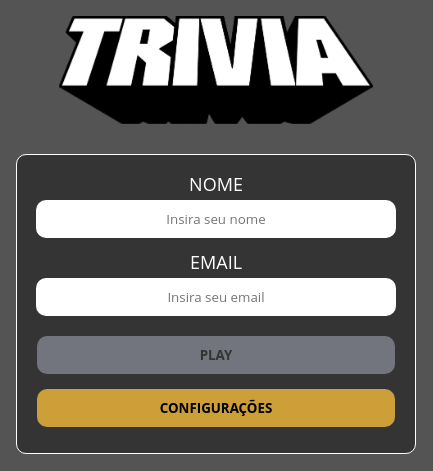
Test: Testando o componente Login › Verificando se o botão está habilitado quando é passado dados válidos.
Expected: the field labelled "EMAIL" is shown, [36,278,396,316]
Expected: the button "Play" is disabled, [37,336,395,374]
Type "aaaa" into the field labelled "NOME".
click(216, 219); type("aaaa")  # box [36,200,396,238]
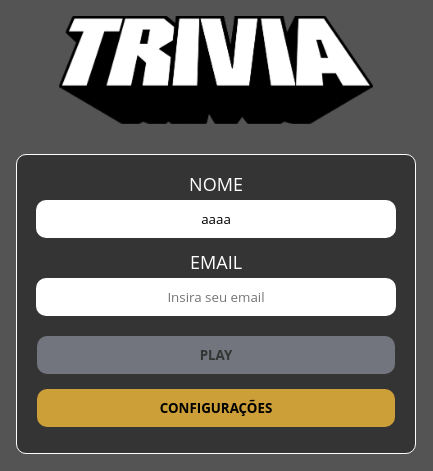
Type "teste@teste.com" into the field labelled "EMAIL".
click(216, 297); type("teste@teste.com")  # box [36,278,396,316]
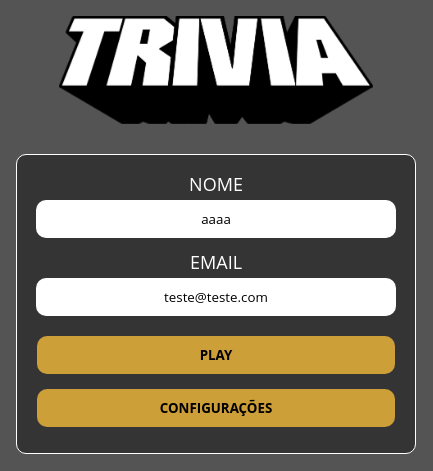
Expected: the button "Play" is enabled, [37,336,395,374]
